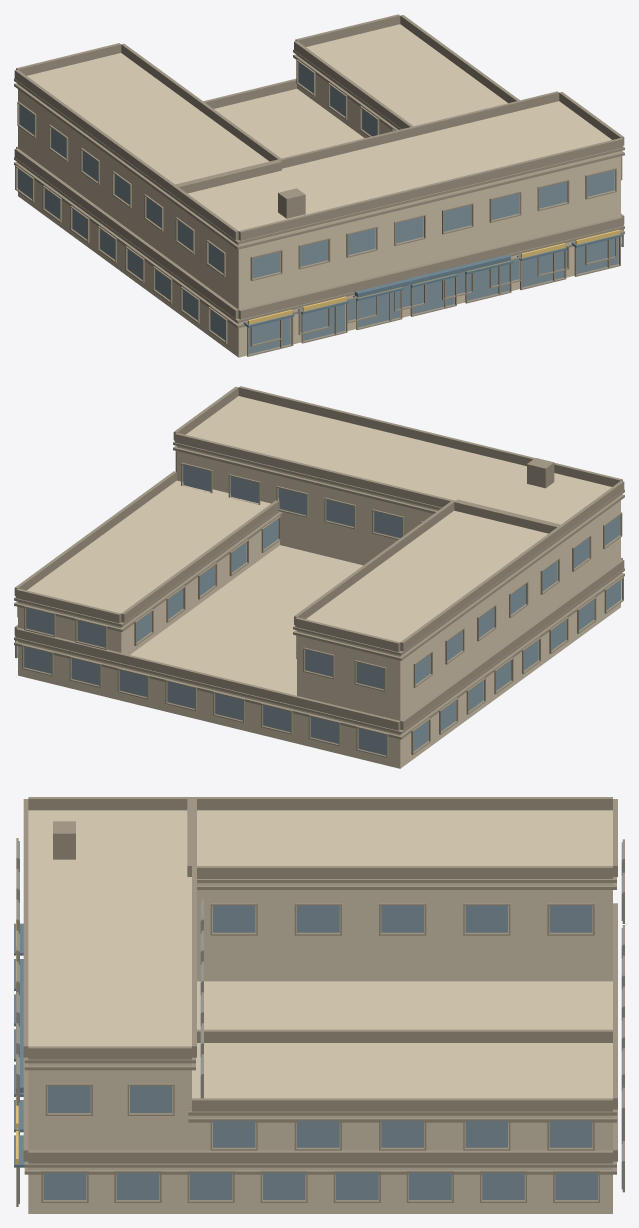
File: commercial_4x4_court.glb
3 renders of one model, top to bottom at view 1: azimuth 30°, elevation 25°; view 2: azimuth 150°, elevation 25°; view 3: azimuth 270°, elevation 25°, orthographic. The views are drawn at different scales.
Parts seen in each view (by area): view 1: commercial_4x4_court_0; view 2: commercial_4x4_court_0; view 3: commercial_4x4_court_0.
Boxes of the visible parts, left/top/right/bottom form: commercial_4x4_court_0: left=14, top=14, right=624, bottom=357; commercial_4x4_court_0: left=14, top=386, right=624, bottom=768; commercial_4x4_court_0: left=14, top=797, right=624, bottom=1213.
Bounding box in the file's own units: 31.74 × 10.5 × 31.87.
